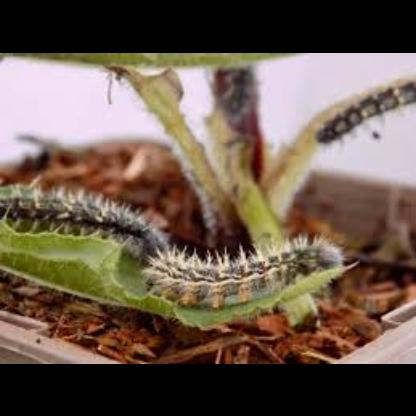oruga: (143, 236, 358, 306), (2, 173, 172, 251), (306, 77, 416, 141)
